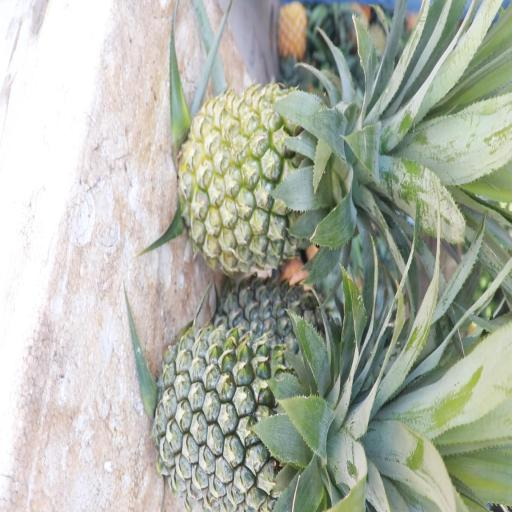Pineapple - v8 v1: (185, 80, 366, 271)
